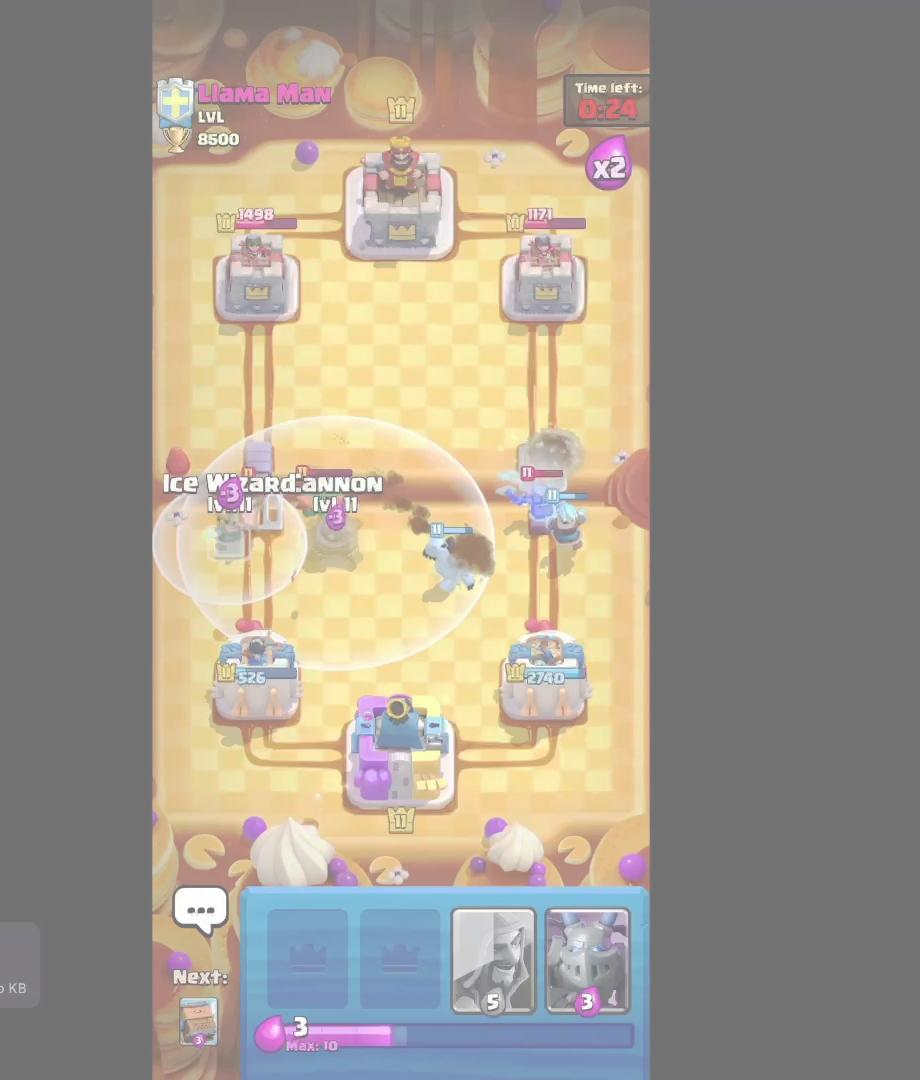Baby Dragon: (292, 467, 359, 516)
Hog Rider: (224, 452, 284, 546)
Mini Pekka: (500, 451, 570, 536)
